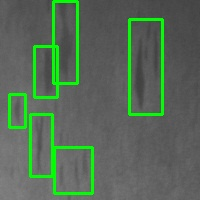inclusion: (129, 19, 162, 114), (53, 1, 77, 83), (54, 147, 92, 193), (30, 114, 52, 176), (34, 46, 57, 97), (9, 94, 25, 127)
